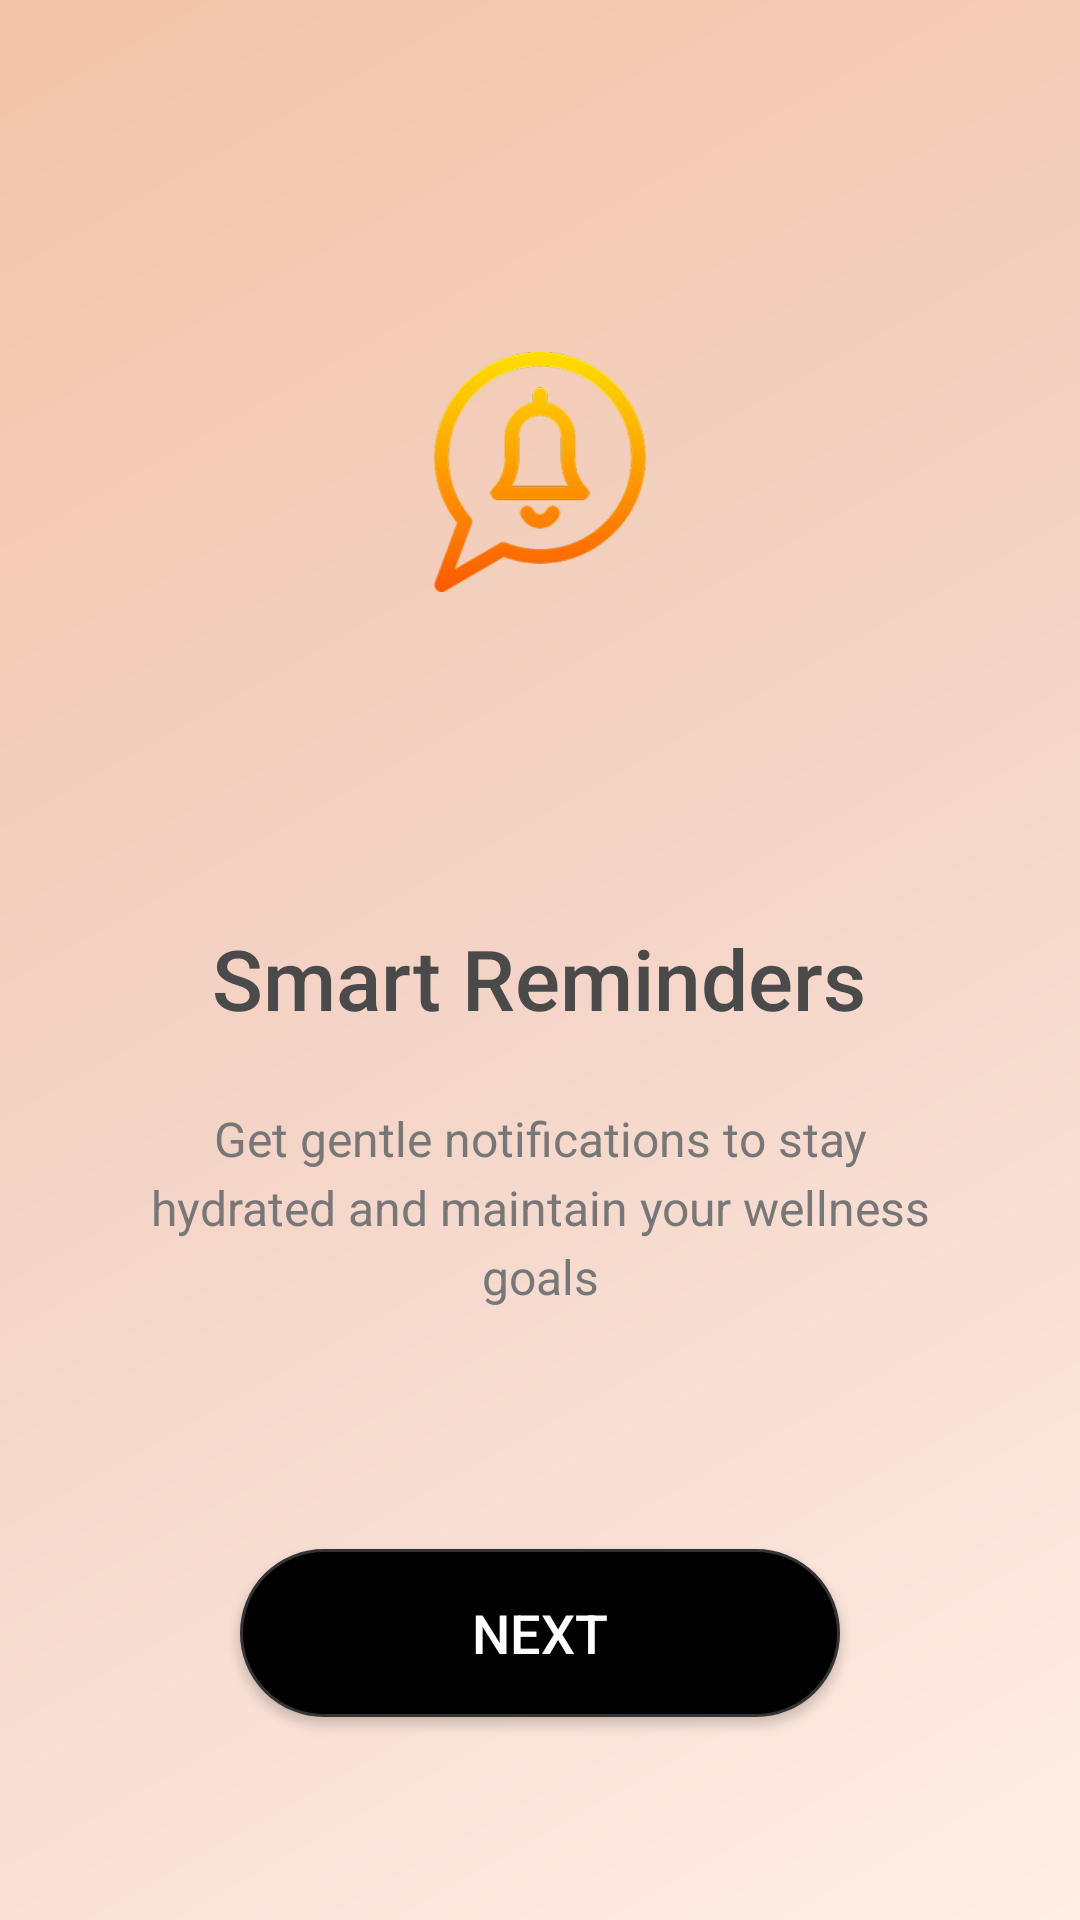

Icons on this 1080x1920 Android screen, each with the point to tap as (x,y):
Notification Bell Icon: (540,472)
